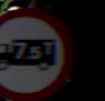Heavy Vehicles: (0, 7, 67, 97)
